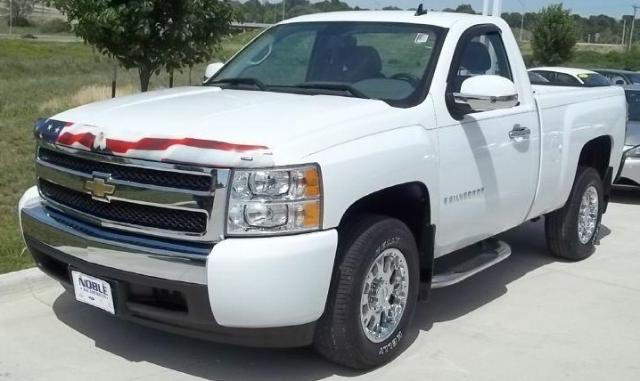pickup-truck: (18, 8, 628, 370)
